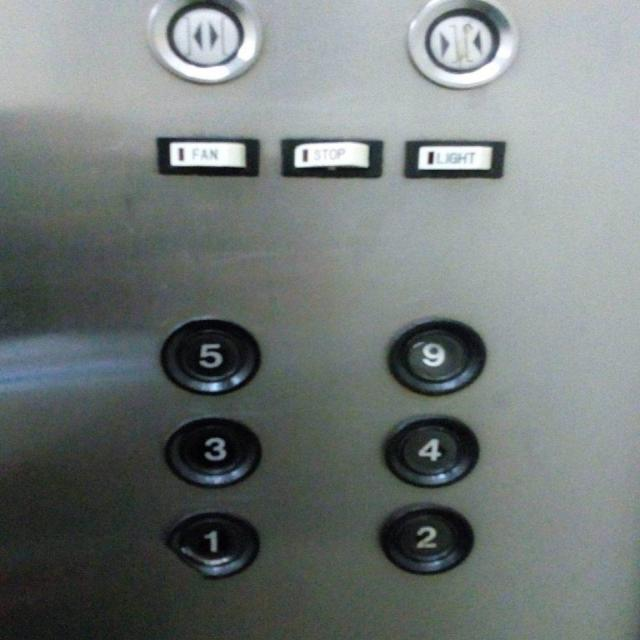1: (161, 505, 263, 584)
2: (374, 500, 478, 577)
3: (159, 412, 266, 491)
4: (379, 411, 483, 490)
5: (156, 315, 262, 396)
9: (384, 316, 490, 396)
close: (400, 0, 524, 95)
open: (139, 0, 268, 89)
switch: (148, 131, 264, 180), (274, 133, 389, 182), (398, 135, 509, 181)
